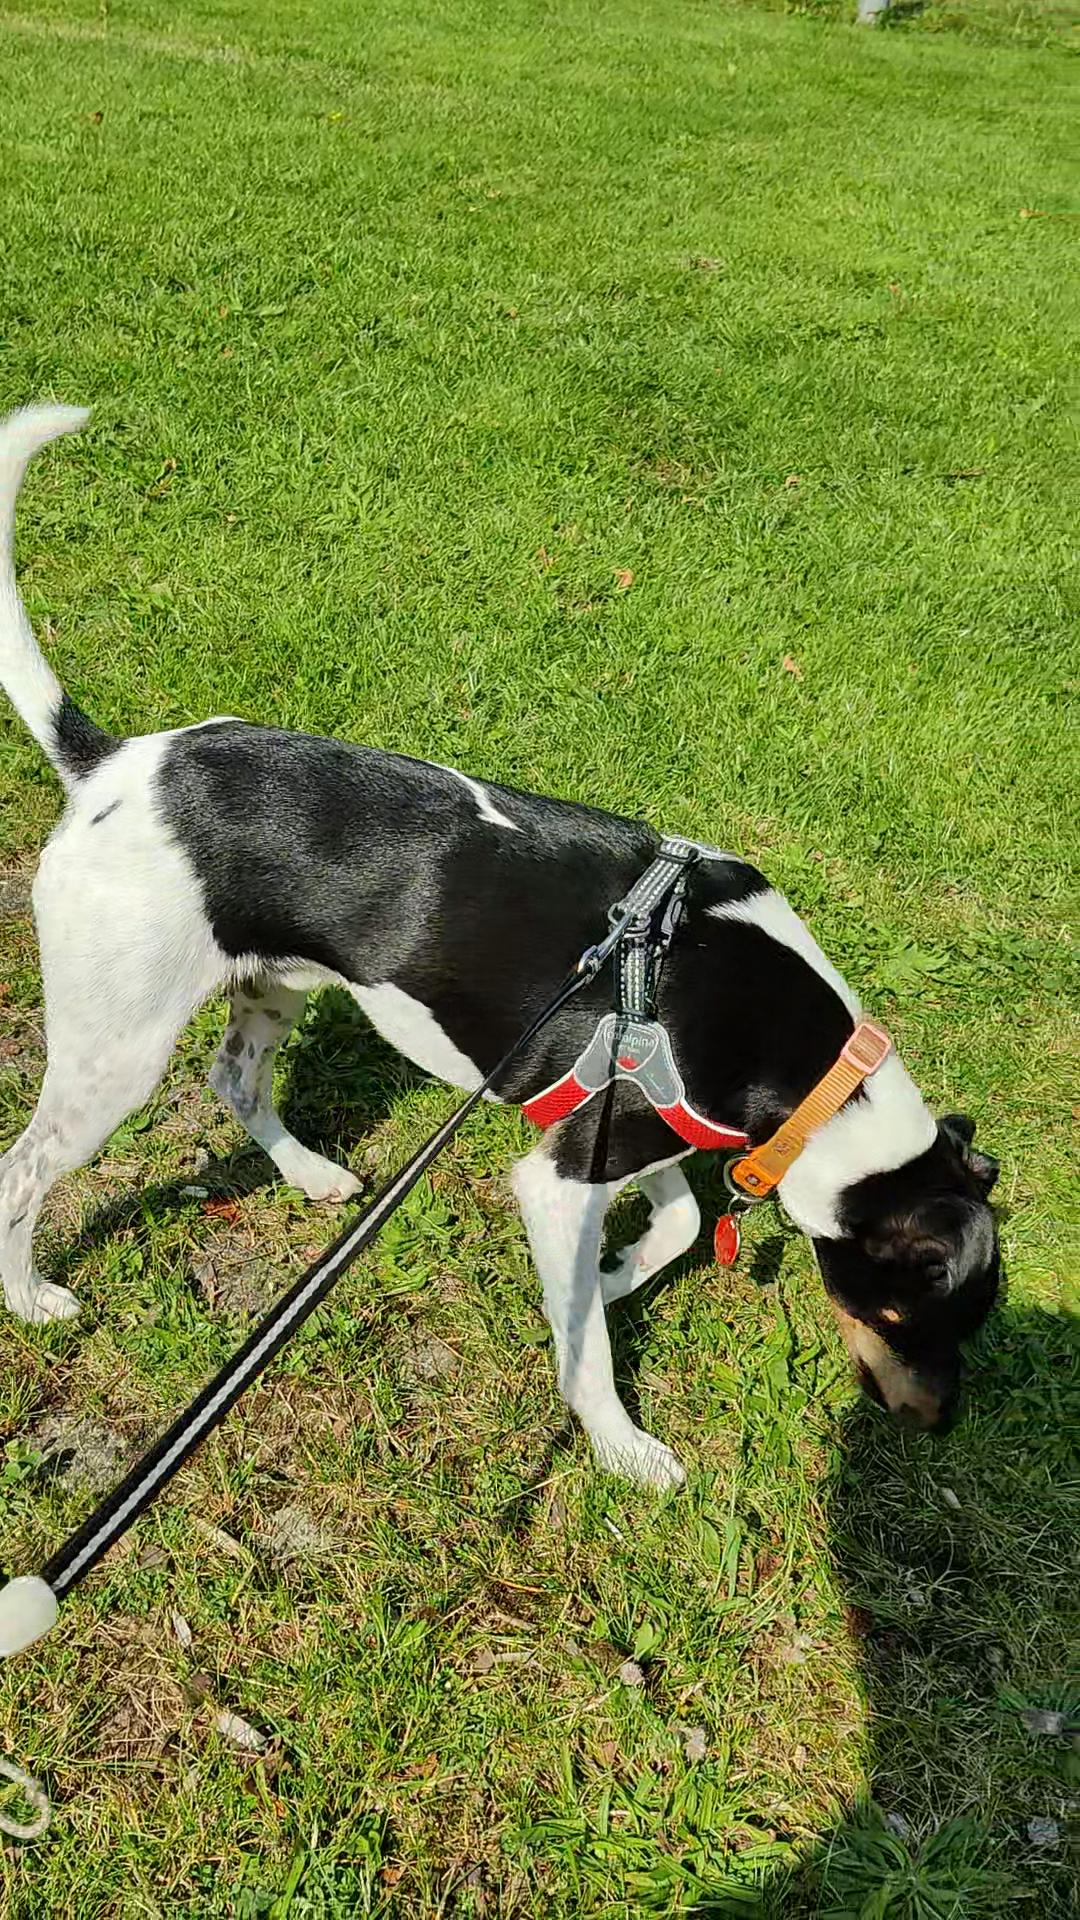Dog: (0, 378, 1031, 1515)
